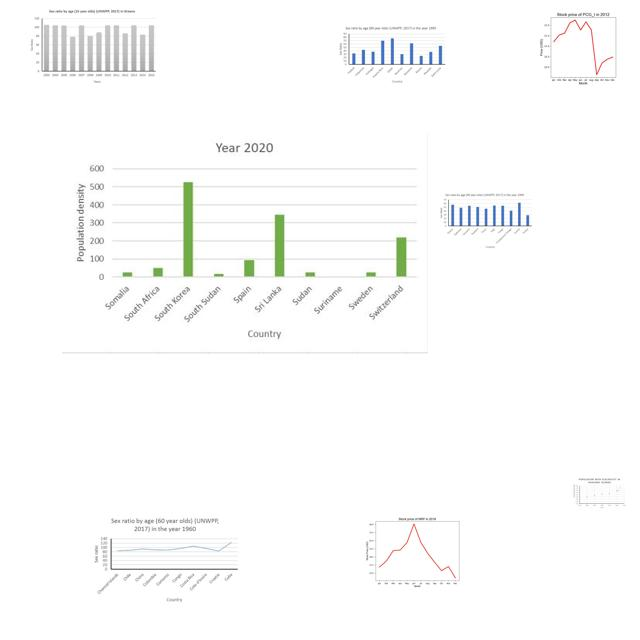Graph: (62, 132, 428, 354), (89, 514, 240, 607), (26, 6, 163, 85), (360, 512, 472, 589), (530, 8, 634, 86), (336, 25, 447, 86), (437, 192, 533, 249), (572, 477, 627, 510)
